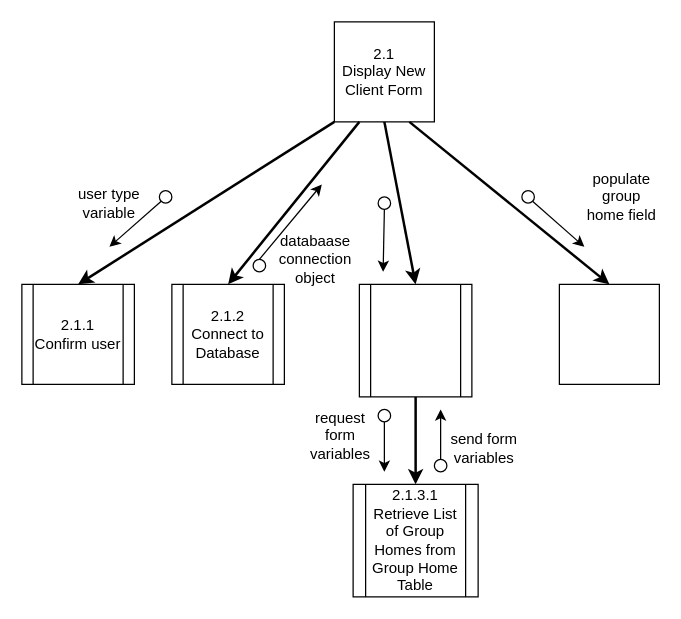
Some shapes in this 681 by 619 pixel diagram are drawn without their labels. Here are the shapes that lost their labels. From the top down, the centre of each, then its label:
At point 415,340: "2.1.3 Get Required Information from Database".
At point 608,333: "2.1.4 Display New Client Form on Screen".
